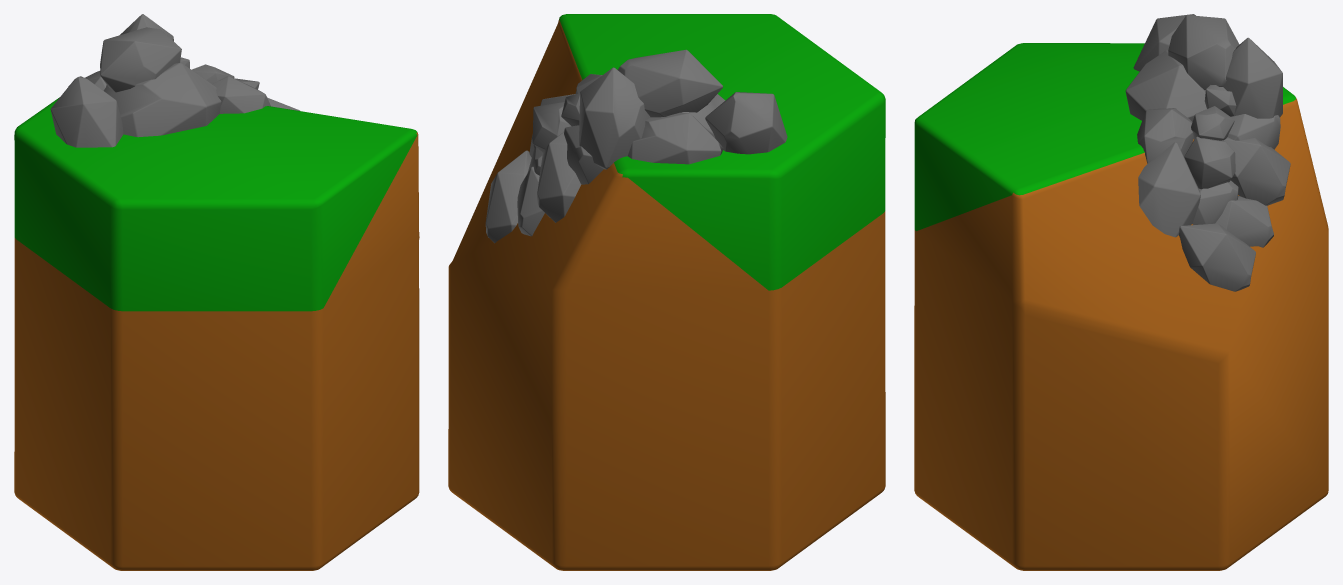
The model's file is rockyTileAgain.fbx.
3 views of the same model, side by side, from view 1: azimuth 30°, elevation 25°; view 2: azimuth 150°, elevation 25°; view 3: azimuth 270°, elevation 25° (orthographic). The views are drawn at different scales.
Visible parts, largest first — view 1: Cylinder, Icosphere.005, Icosphere.009, Icosphere.013, Icosphere.008; view 2: Cylinder, Icosphere, Icosphere.013, Icosphere.009, Icosphere.004, Icosphere.018, Icosphere.002, Icosphere.007, Icosphere.011, Icosphere.020; view 3: Cylinder, Icosphere.017, Icosphere.002, Icosphere.013, Icosphere.005, Icosphere, Icosphere.018, Icosphere.008, Icosphere.011, Icosphere.007, Icosphere.020, Icosphere.019 (+3 smaller).
Part boxes in pixels (x1,y1,x2,y2): Cylinder: [14, 97, 419, 570]; Icosphere.005: [103, 62, 221, 137]; Icosphere.009: [50, 76, 123, 147]; Icosphere.013: [100, 27, 181, 92]; Icosphere.008: [212, 76, 270, 113]; Cylinder: [448, 14, 885, 570]; Icosphere: [579, 67, 650, 169]; Icosphere.013: [618, 49, 722, 117]; Icosphere.009: [705, 92, 787, 154]; Icosphere.004: [628, 112, 723, 164]; Icosphere.018: [537, 126, 581, 222]; Icosphere.002: [485, 150, 531, 243]; Icosphere.007: [517, 166, 544, 236]; Icosphere.011: [532, 102, 570, 152]; Icosphere.020: [564, 125, 603, 184]; Cylinder: [914, 43, 1328, 570]; Icosphere.017: [1138, 142, 1200, 237]; Icosphere.002: [1179, 223, 1255, 291]; Icosphere.013: [1168, 15, 1239, 90]; Icosphere.005: [1125, 50, 1206, 121]; Icosphere: [1223, 37, 1282, 118]; Icosphere.018: [1224, 137, 1290, 205]; Icosphere.008: [1137, 108, 1193, 163]; Icosphere.011: [1184, 136, 1235, 189]; Icosphere.007: [1215, 196, 1273, 247]; Icosphere.020: [1227, 114, 1280, 149]; Icosphere.019: [1192, 180, 1238, 224].
Bounding box in the file's own units: 173 × 240 × 198.
